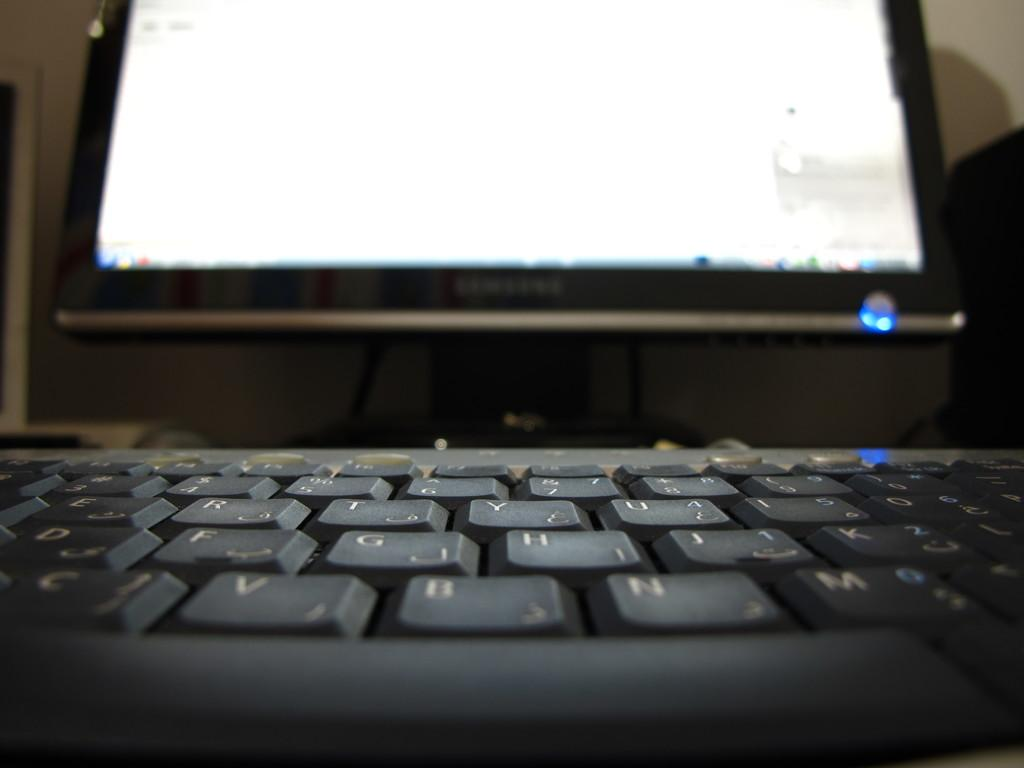Computer-keyboard: (0, 447, 1023, 767)
